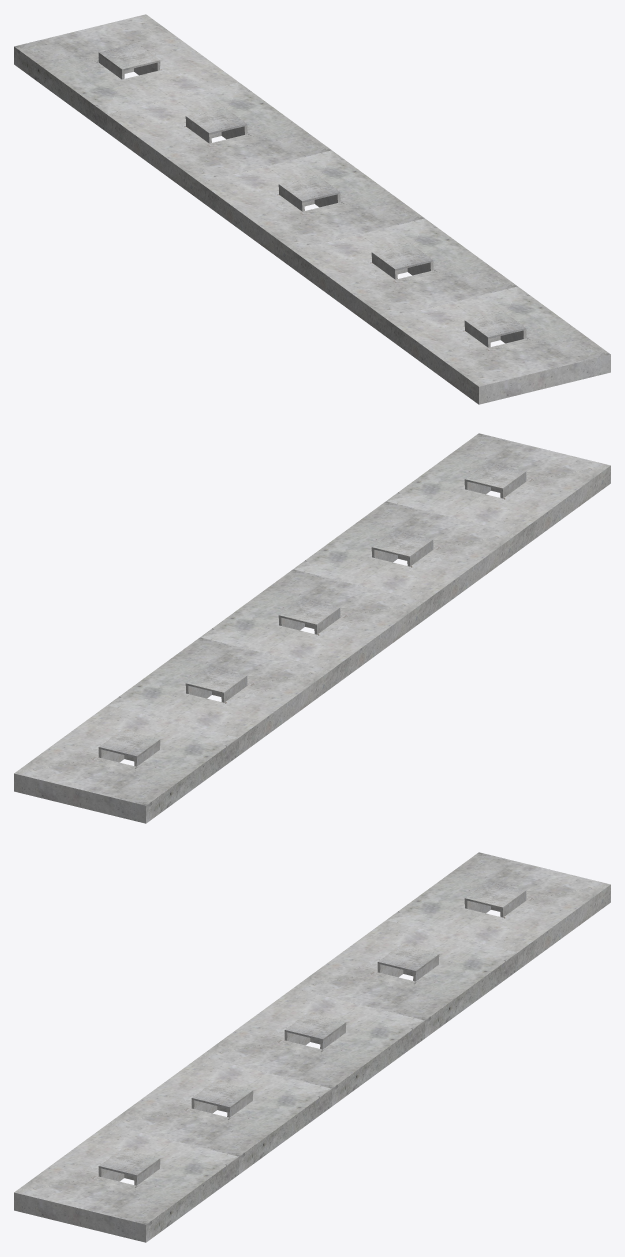
File: techito-11.fbx
3 views of the same model, one above another, from view 1: azimuth 30°, elevation 25°; view 2: azimuth 150°, elevation 25°; view 3: azimuth 330°, elevation 25° (orthographic).
Parts seen in each view (by area): view 1: polySurface156; view 2: polySurface156; view 3: polySurface156.
Boxes of the visible parts, box(x1,y1,x2,y2) form: polySurface156: box(14, 14, 610, 404); polySurface156: box(14, 433, 610, 823); polySurface156: box(14, 852, 610, 1242).
Size of the model in its own units: 61.14 by 12.51 by 373.
